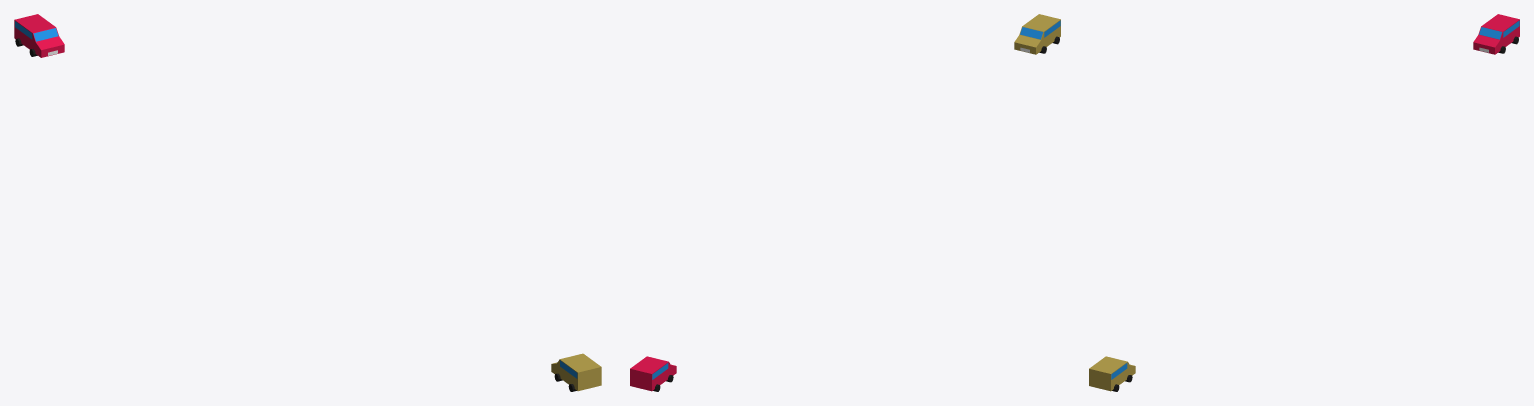
Rendered from mobil_iso.gltf.
3 views of the same model, side by side, from view 1: azimuth 30°, elevation 25°; view 2: azimuth 150°, elevation 25°; view 3: azimuth 330°, elevation 25° (orthographic). The views are drawn at different scales.
Parts seen in each view (by area): view 1: mobil, mobil.001; view 2: mobil.001, mobil; view 3: mobil, mobil.001.
Part boxes in pixels (left/top/right/bottom): mobil: left=14, top=14, right=64, bottom=57; mobil.001: left=551, top=353, right=601, bottom=391; mobil.001: left=1014, top=14, right=1060, bottom=54; mobil: left=630, top=356, right=676, bottom=391; mobil: left=1473, top=14, right=1519, bottom=54; mobil.001: left=1089, top=356, right=1135, bottom=391.
Bounding box in the file's own units: 2.51 × 0.6084 × 24.54.
